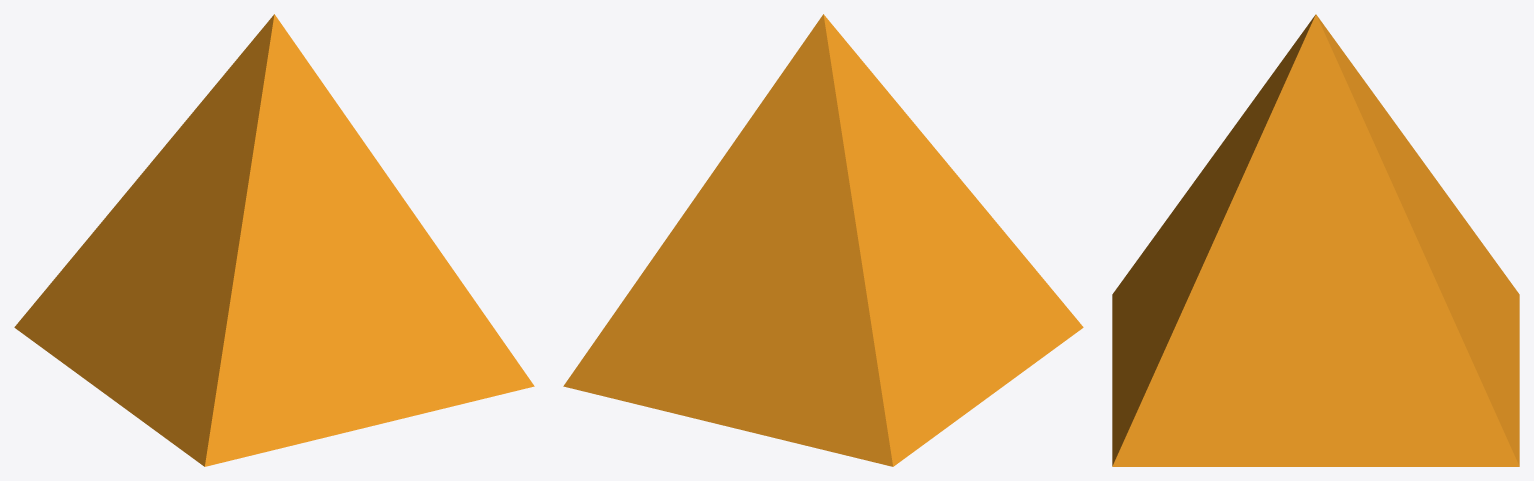
3 renders of one model, left to right at view 1: azimuth 30°, elevation 25°; view 2: azimuth 150°, elevation 25°; view 3: azimuth 270°, elevation 25°, orthographic. The views are drawn at different scales.
Parts seen in each view (by area): view 1: SM_Primitive_Pyramid_01; view 2: SM_Primitive_Pyramid_01; view 3: SM_Primitive_Pyramid_01.
Boxes of the visible parts, x1,y1,x2,y2 form: SM_Primitive_Pyramid_01: [14, 14, 534, 466]; SM_Primitive_Pyramid_01: [563, 14, 1083, 466]; SM_Primitive_Pyramid_01: [1112, 14, 1519, 466].
Size of the model in its own units: 101 by 100 by 101.
